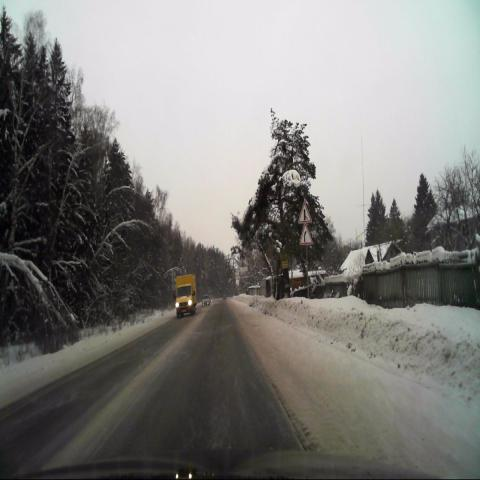1_11_1: (299, 223, 313, 245)
2_3_6: (298, 201, 312, 224)
